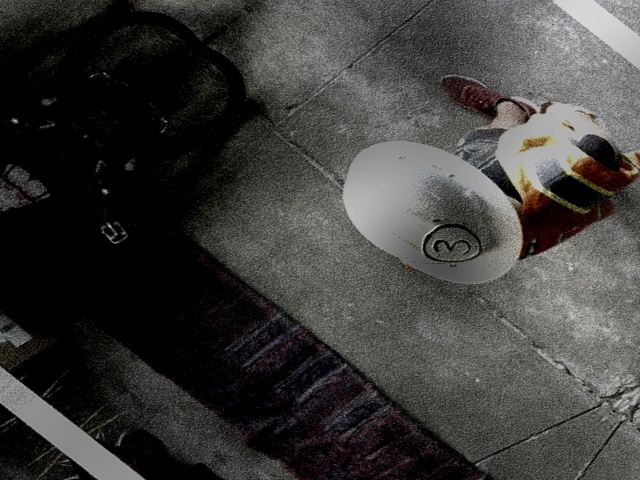three: (413, 215, 490, 275)
